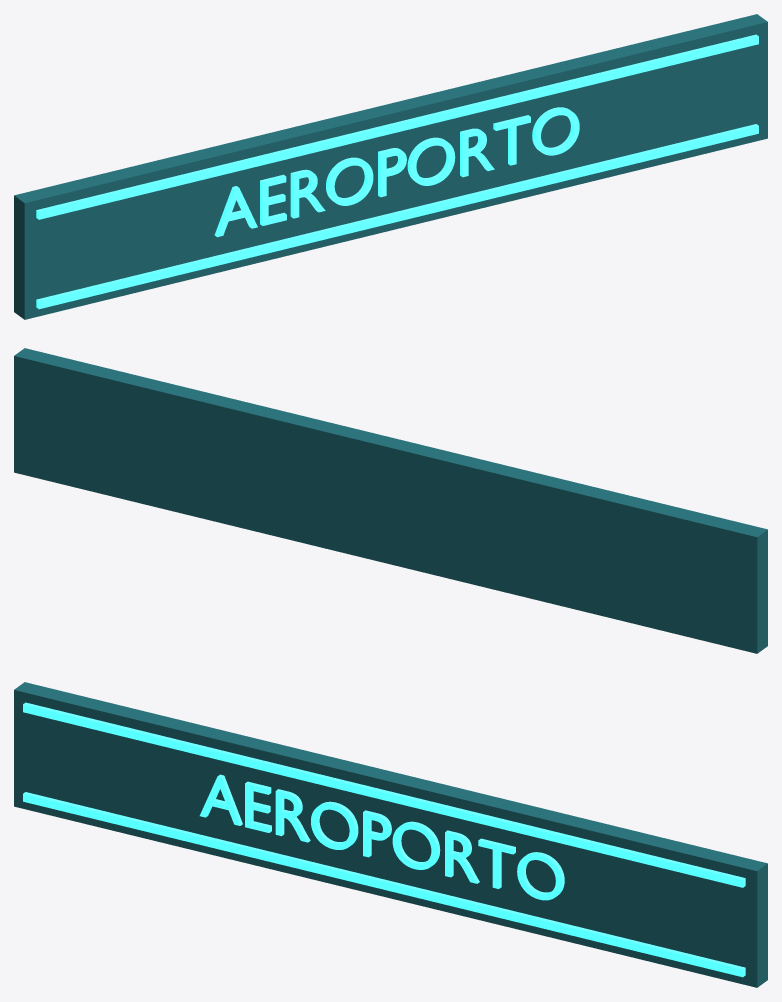
The model's file is sign_airport.glb.
3 renders of one model, top to bottom at view 1: azimuth 30°, elevation 25°; view 2: azimuth 150°, elevation 25°; view 3: azimuth 330°, elevation 25°, orthographic.
Parts seen in each view (by area): view 1: sign_airport; view 2: sign_airport; view 3: sign_airport.
Boxes of the visible parts, x1,y1,x2,y2 form: sign_airport: (14, 14, 767, 319); sign_airport: (14, 348, 767, 653); sign_airport: (14, 682, 767, 987).
Bounding box in the file's own units: 8 × 1.2 × 0.265.
